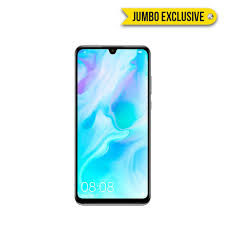huawei: (72, 42, 152, 205)
